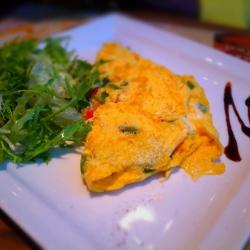omelette: (88, 39, 223, 192)
salad: (1, 41, 88, 156)
